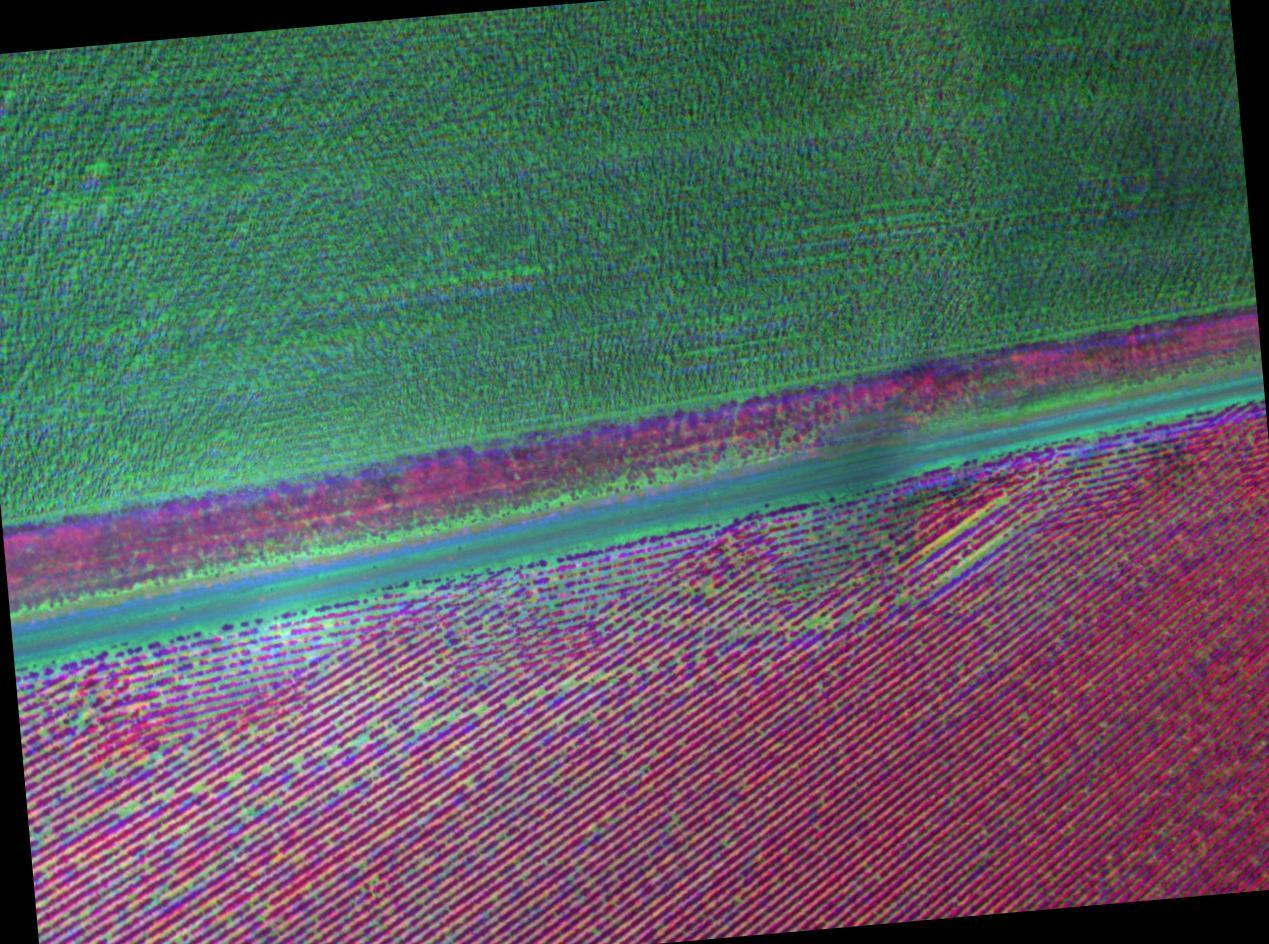dc: (963, 561, 970, 568), (326, 623, 332, 630), (810, 622, 815, 627), (312, 651, 317, 656), (359, 738, 364, 743), (539, 690, 543, 695)
